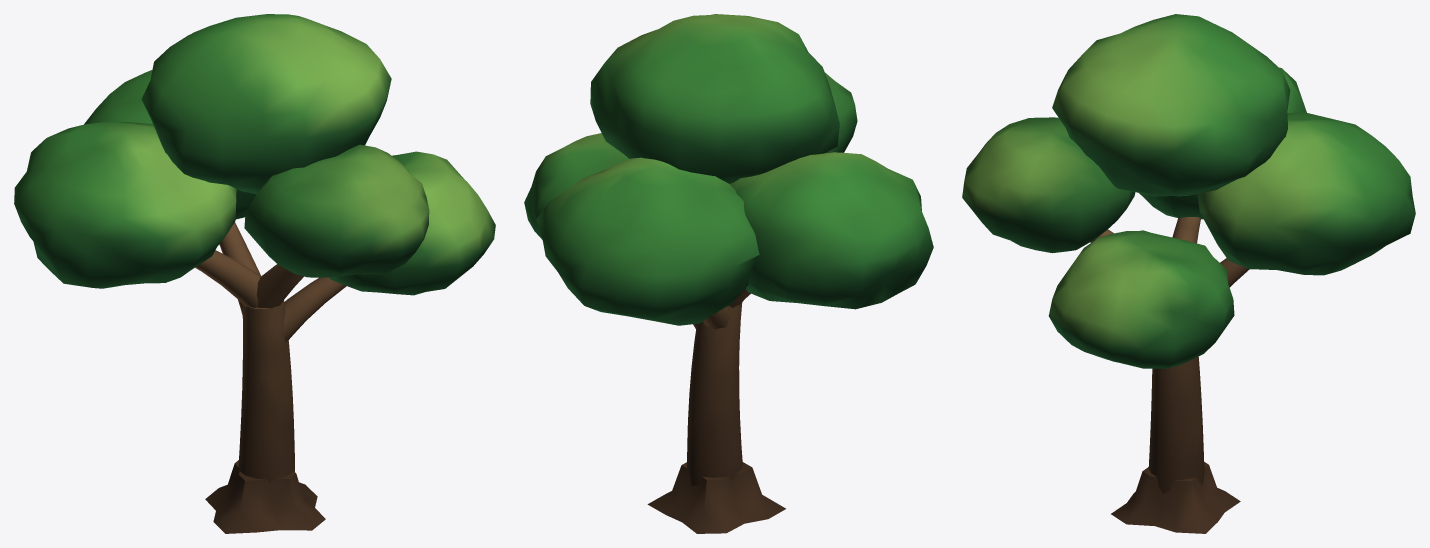
The model's file is TreeA.fbx.
3 views of the same model, side by side, from view 1: azimuth 30°, elevation 25°; view 2: azimuth 150°, elevation 25°; view 3: azimuth 270°, elevation 25° (orthographic). The views are drawn at different scales.
Visible parts, largest first — view 1: Canopy, Trunk; view 2: Canopy, Trunk; view 3: Canopy, Trunk.
Part boxes in pixels (x1,y1,x2,y2): Canopy: (14,14,495,295); Trunk: (195,222,346,533); Canopy: (524,14,933,325); Trunk: (647,288,785,533); Canopy: (962,14,1415,368); Trunk: (1090,217,1249,533).
Size of the model in its own units: 3.23 by 3.58 by 3.1.
